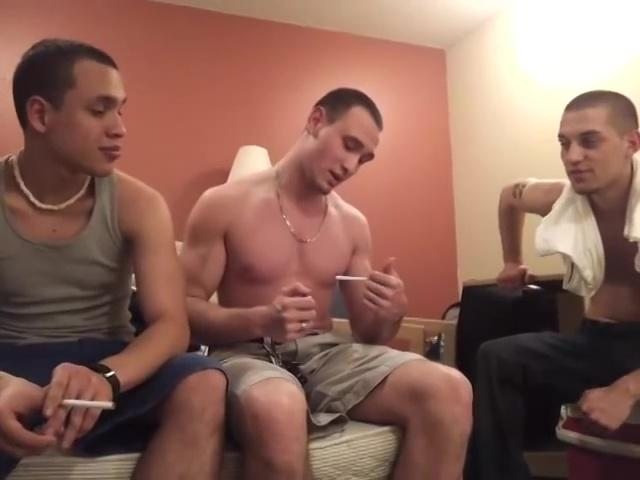cigarette: (55, 396, 116, 411), (334, 272, 372, 283)
